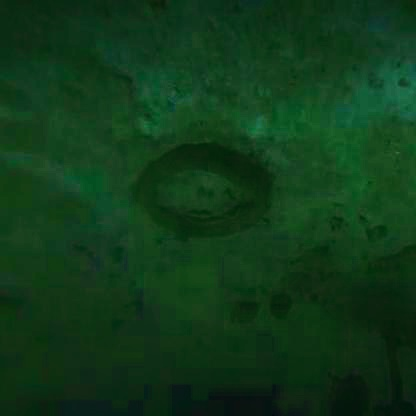tire: (132, 133, 286, 255)
